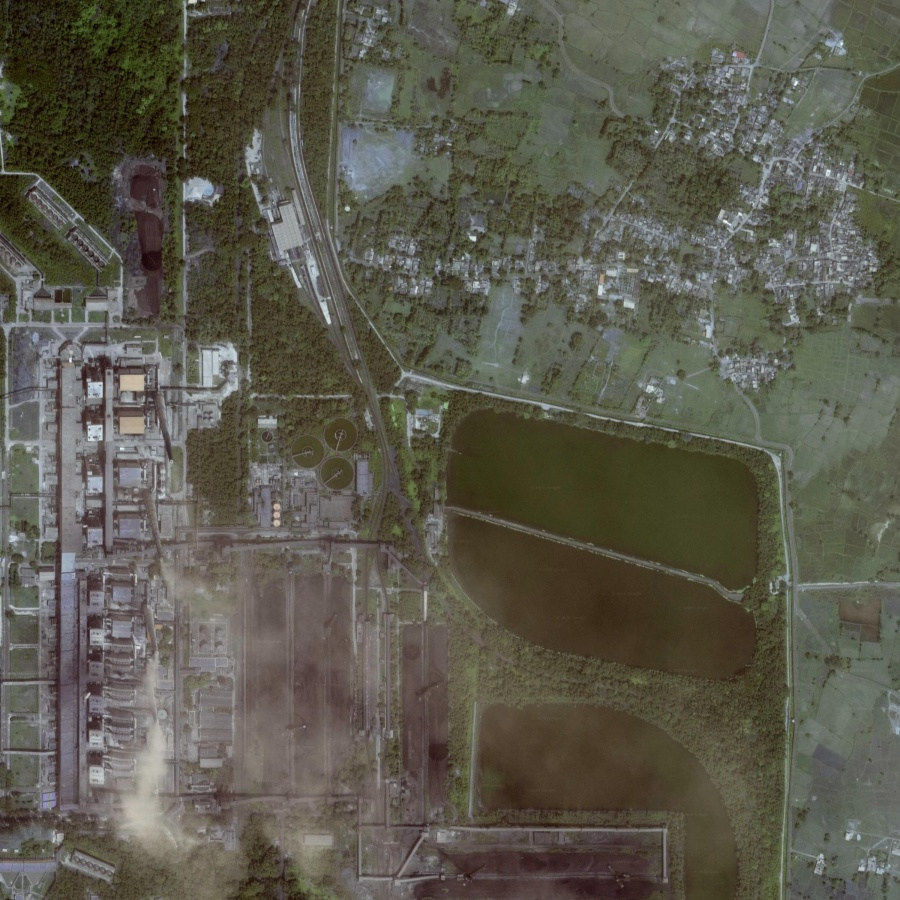PowerPlant: (130, 543, 460, 864)
